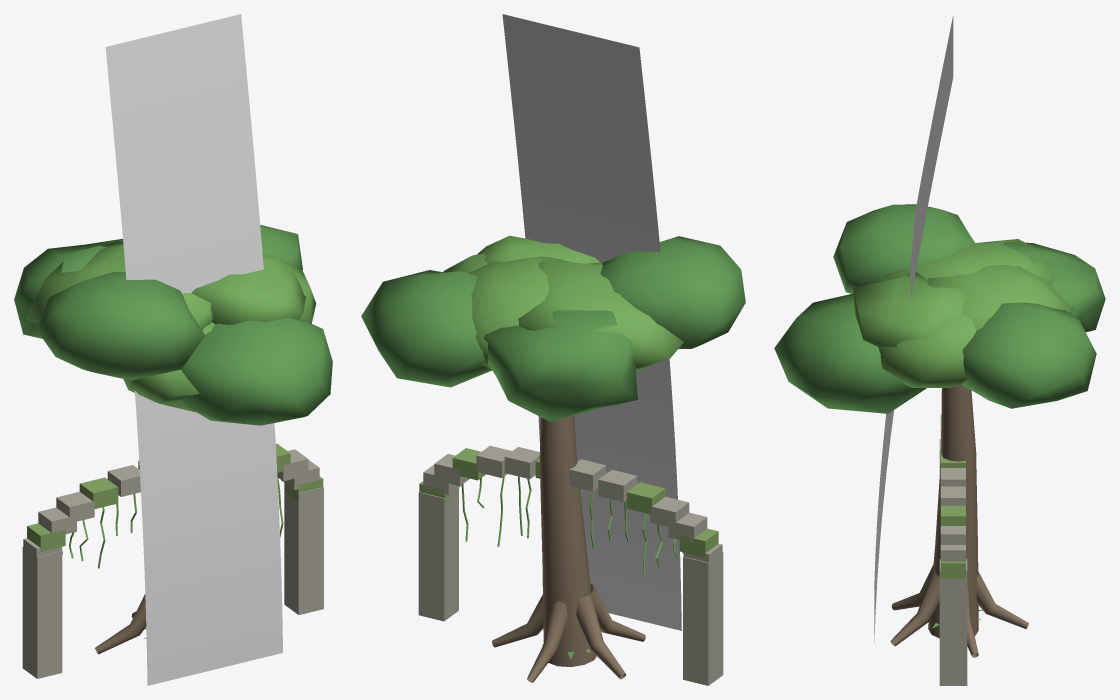
Rendered from nr_jungle.glb.
The picture shows the model from 3 angles, left to right: view 1: azimuth 30°, elevation 25°; view 2: azimuth 150°, elevation 25°; view 3: azimuth 270°, elevation 25°; orthographic projection. The views are drawn at different scales.
Parts seen in each view (by area): view 1: falls, jtree, jarch; view 2: jtree, falls, jarch; view 3: jtree, jarch, falls.
Boxes of the visible parts, x1,y1,x2,y2 form: falls: (105, 14, 282, 685); jtree: (14, 225, 332, 654); jarch: (22, 443, 323, 678); jtree: (361, 235, 745, 682); falls: (502, 14, 681, 630); jarch: (418, 445, 723, 685); jtree: (774, 204, 1105, 657); jarch: (939, 414, 967, 685); falls: (874, 15, 953, 642).
Size of the model in its own units: 31.49 by 61.13 by 31.37.
